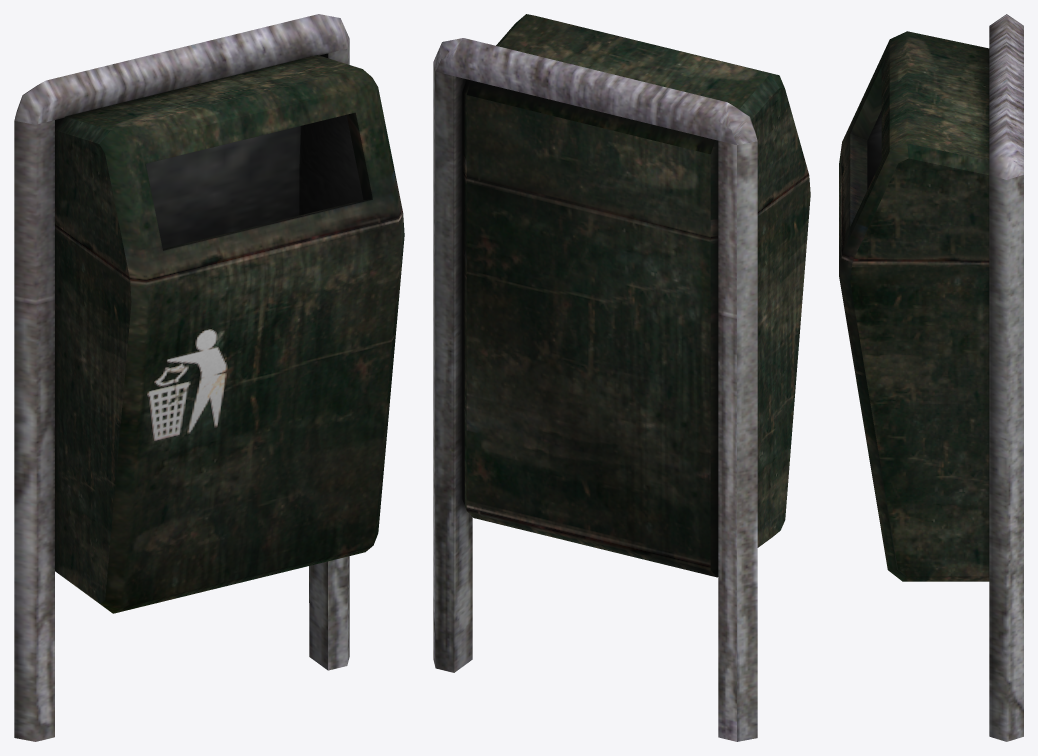
The model's file is Model_Garbage_Disposal_01.fbx.
3 views of the same model, side by side, from view 1: azimuth 30°, elevation 25°; view 2: azimuth 150°, elevation 25°; view 3: azimuth 270°, elevation 25° (orthographic). The views are drawn at different scales.
Parts seen in each view (by area): view 1: Garbage_Disposal_01; view 2: Garbage_Disposal_01; view 3: Garbage_Disposal_01.
Part boxes in pixels (x1,y1,x2,y2): Garbage_Disposal_01: (14, 14, 404, 741); Garbage_Disposal_01: (433, 14, 810, 741); Garbage_Disposal_01: (839, 14, 1023, 741).
Size of the model in its own units: 63.41 by 117 by 33.25.
